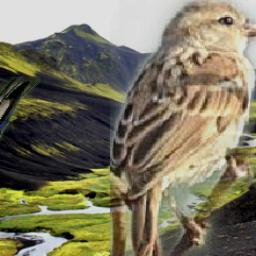Sparrow: (111, 0, 256, 256)
Swallow: (0, 78, 41, 142)
